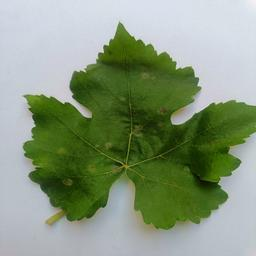Powdery-Mildew: (210, 105, 255, 144), (34, 136, 61, 173), (124, 114, 145, 145), (57, 175, 77, 196), (87, 160, 105, 179), (138, 66, 156, 82), (94, 139, 113, 152), (108, 162, 121, 172), (28, 95, 38, 105), (160, 106, 169, 116)
